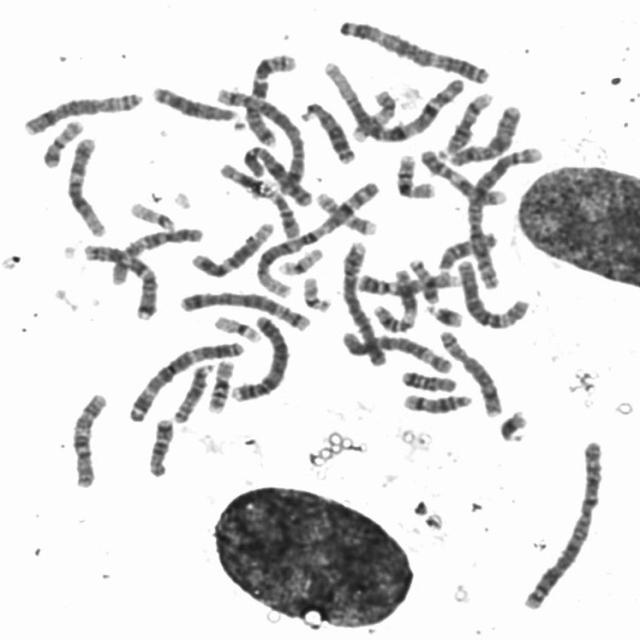A1: (249, 174, 383, 300), (317, 54, 466, 142)
A2: (516, 433, 606, 612), (461, 141, 545, 291)
A3: (331, 12, 494, 84), (122, 334, 245, 424)
B4: (336, 235, 391, 367), (224, 307, 292, 404)
B5: (215, 87, 307, 196), (173, 284, 314, 333)
C10: (105, 220, 206, 286), (64, 385, 110, 490)
C11: (218, 163, 304, 243), (366, 262, 421, 335)
C12: (185, 215, 278, 279), (60, 130, 109, 238)
C6: (452, 253, 532, 330), (335, 325, 456, 375)
C7: (76, 236, 160, 322), (239, 47, 299, 146)
C8: (432, 323, 505, 418), (17, 84, 146, 137)
C9: (412, 142, 509, 207), (352, 264, 464, 296)
D13: (146, 78, 242, 124), (294, 95, 356, 166)
D14: (440, 84, 496, 156), (396, 385, 475, 416)
D15: (167, 357, 215, 425), (432, 225, 501, 272)
E16: (390, 147, 437, 200), (202, 353, 238, 414)
E17: (309, 186, 380, 236), (347, 84, 398, 142)
E18: (142, 412, 176, 478), (396, 364, 459, 393)
F19: (274, 242, 326, 278), (209, 309, 263, 343)
F20: (35, 112, 86, 169), (404, 252, 442, 306)
G21: (493, 404, 530, 444), (421, 297, 465, 329)
G22: (124, 196, 178, 232), (297, 269, 334, 313)
X: (442, 98, 524, 167), (238, 141, 314, 208)
